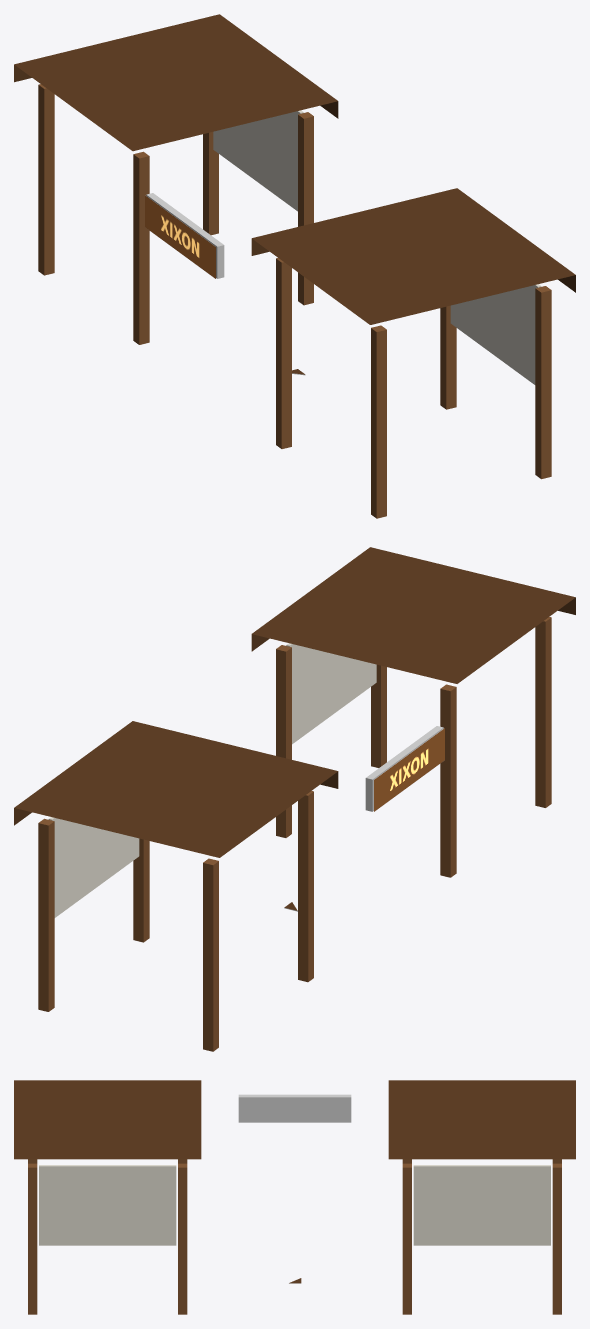
File: xixon_cabanas.glb
3 renders of one model, top to bottom at view 1: azimuth 30°, elevation 25°; view 2: azimuth 150°, elevation 25°; view 3: azimuth 270°, elevation 25°, orthographic. The views are drawn at different scales.
Parts seen in each view (by area): view 1: xixon_cabanas_lod0; view 2: xixon_cabanas_lod0; view 3: xixon_cabanas_lod0.
Part boxes in pixels (x1=…): xixon_cabanas_lod0: x1=14, y1=14, x2=575, y2=518; xixon_cabanas_lod0: x1=14, y1=547, x2=575, y2=1051; xixon_cabanas_lod0: x1=14, y1=1080, x2=575, y2=1314.
Size of what is drawn, in the model's own units: 3.17 by 2.85 by 9.
Materials: 6 (1 with a texture image).
